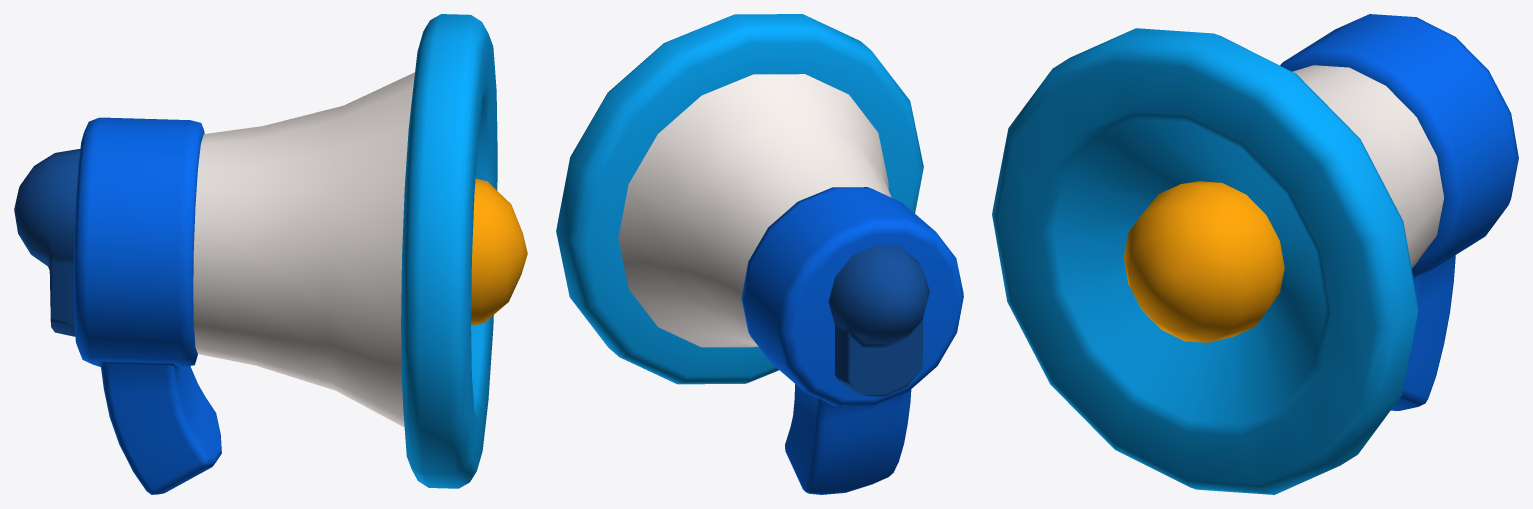
3 views of the same model, side by side, from view 1: azimuth 30°, elevation 25°; view 2: azimuth 150°, elevation 25°; view 3: azimuth 270°, elevation 25° (orthographic). The views are drawn at different scales.
Visible parts, largest first — view 1: model_1.065; view 2: model_1.065; view 3: model_1.065.
Boxes of the visible parts, box(x1,y1,x2,y2) form: model_1.065: box(14, 14, 527, 494); model_1.065: box(556, 14, 963, 494); model_1.065: box(992, 14, 1518, 494).
Size of the model in its own units: 4.1 by 3.96 by 4.
